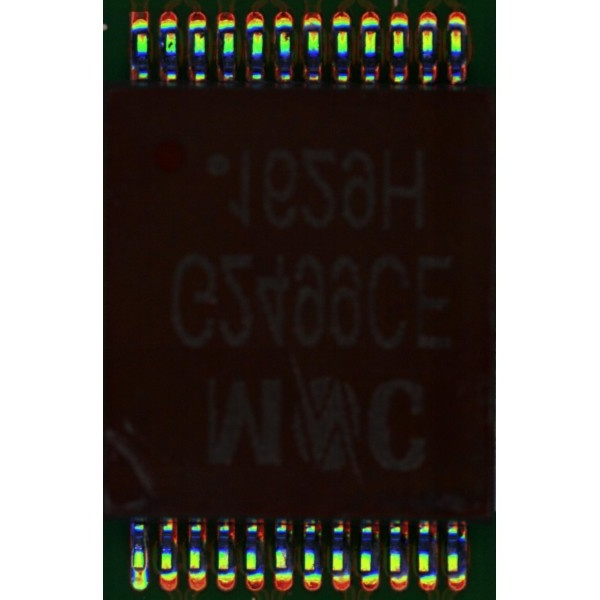Bad_podu: (135, 562, 143, 578)
Bad_qiaojiao: (144, 533, 148, 569)
